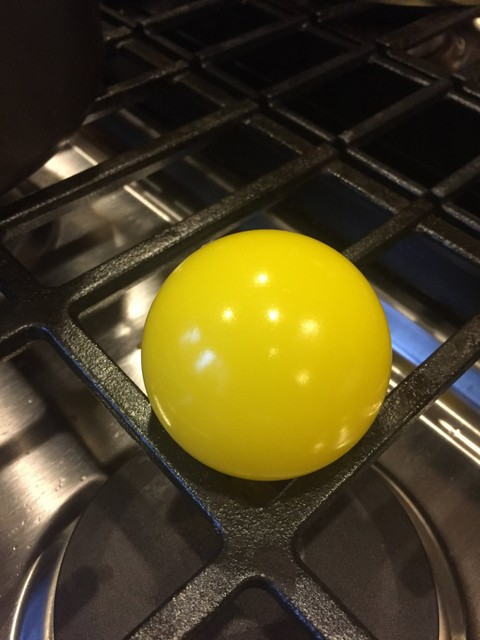ball: (136, 230, 395, 482)
